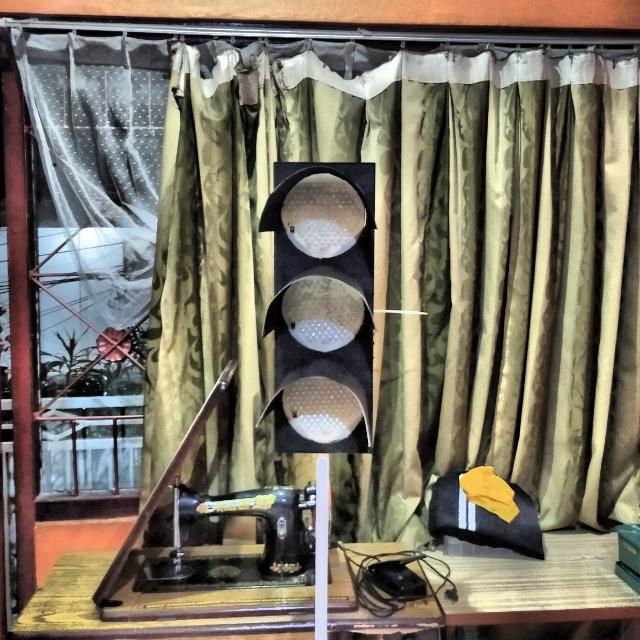yellow: (265, 161, 377, 453)
